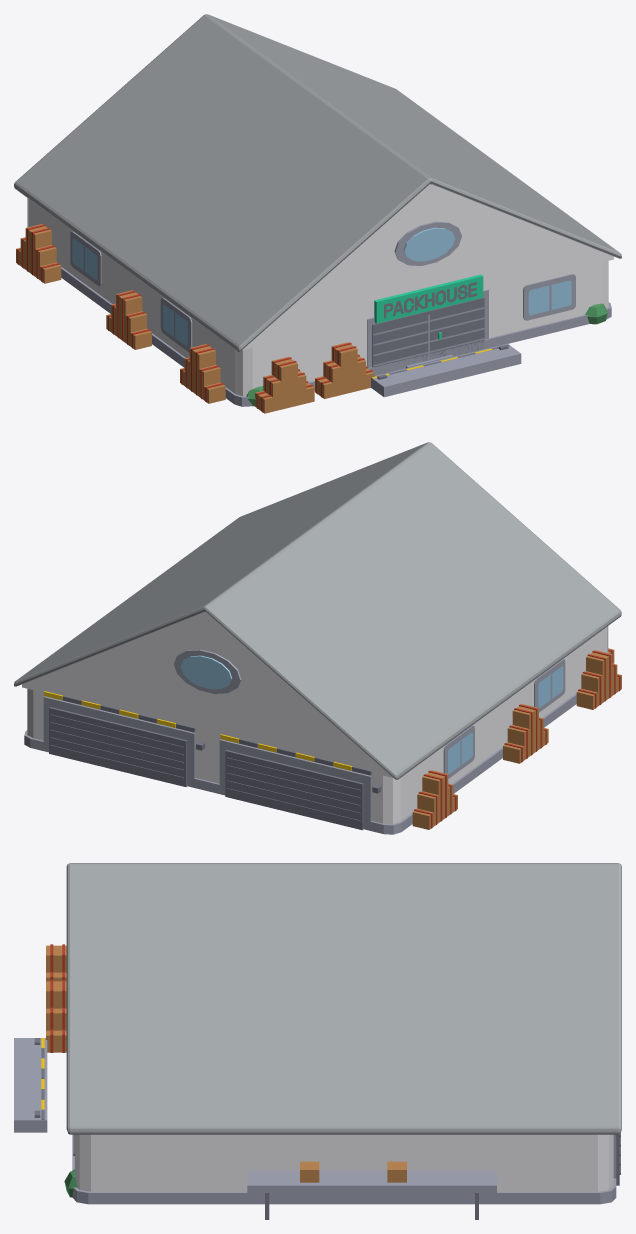
The model's file is packhouse-2x2-t5-tone-a.glb.
3 renders of one model, top to bottom at view 1: azimuth 30°, elevation 25°; view 2: azimuth 150°, elevation 25°; view 3: azimuth 270°, elevation 25°, orthographic. The views are drawn at different scales.
Parts seen in each view (by area): view 1: packhouse-2x2-t5-tone-a; view 2: packhouse-2x2-t5-tone-a; view 3: packhouse-2x2-t5-tone-a.
Boxes of the visible parts, <box> form: packhouse-2x2-t5-tone-a: <box>14,14,621,413</box>; packhouse-2x2-t5-tone-a: <box>14,442,621,834</box>; packhouse-2x2-t5-tone-a: <box>14,863,621,1219</box>.
Size of the model in its own units: 2.16 by 0.9066 by 2.19.
Materials: 1 (1 with a texture image).
